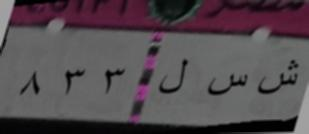3: (59, 62, 89, 104), (103, 62, 127, 99)
8: (15, 66, 44, 101)
laam: (158, 54, 189, 100)
seen: (206, 68, 249, 102)
sheen: (255, 56, 300, 105)
